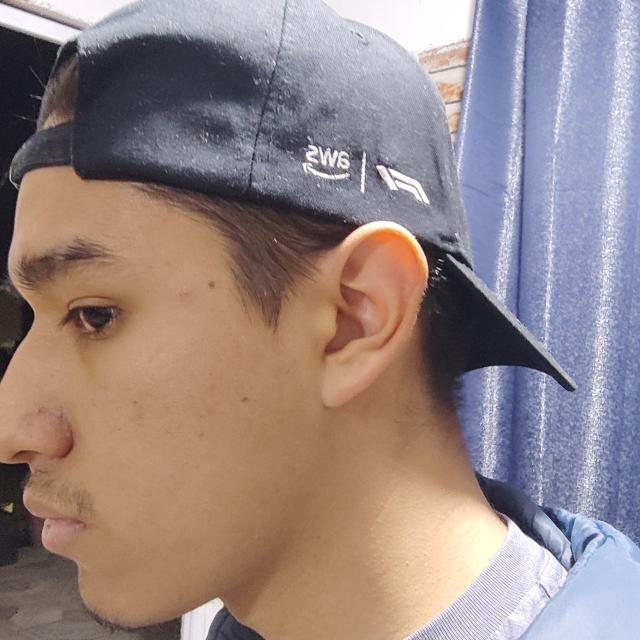ear: (309, 221, 428, 408)
